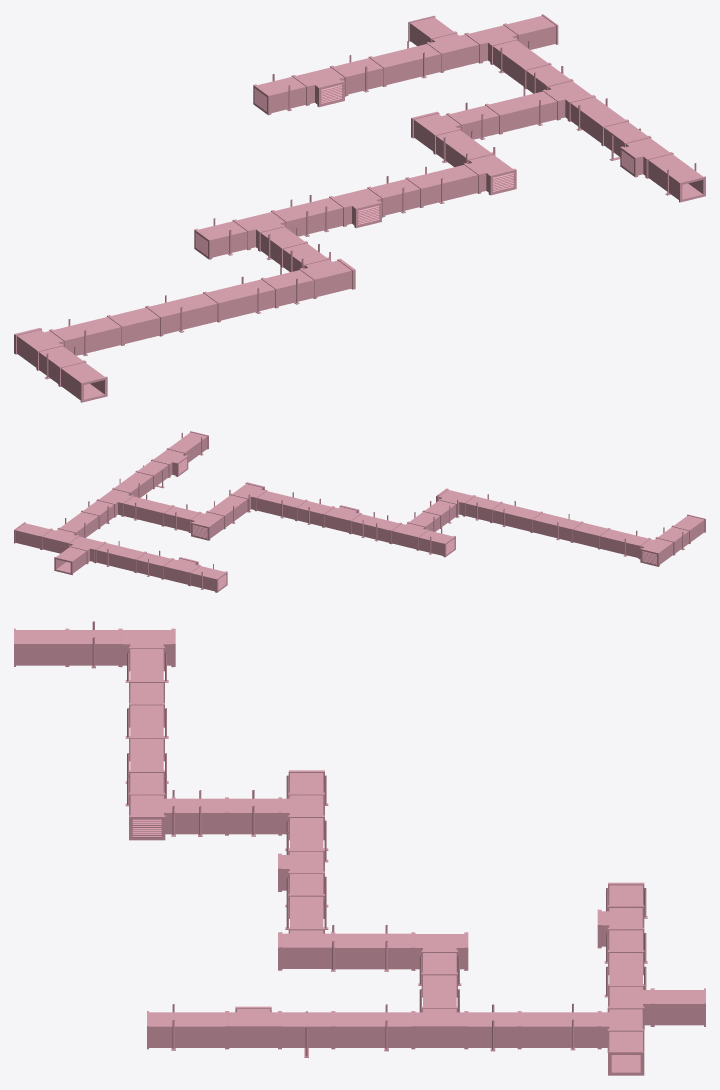
Rendered from GarageVents.fbx.
3 views of the same model, one above another, from view 1: azimuth 30°, elevation 25°; view 2: azimuth 150°, elevation 25°; view 3: azimuth 270°, elevation 25° (orthographic). The views are drawn at different scales.
Visible parts, largest first — view 1: GarageVents; view 2: GarageVents; view 3: GarageVents.
Part boxes in pixels (<box>): GarageVents: <box>14,14,705,402</box>; GarageVents: <box>14,431,705,592</box>; GarageVents: <box>14,621,705,1075</box>.
Bounding box in the file's own units: 1890 × 76.3 × 1300.
